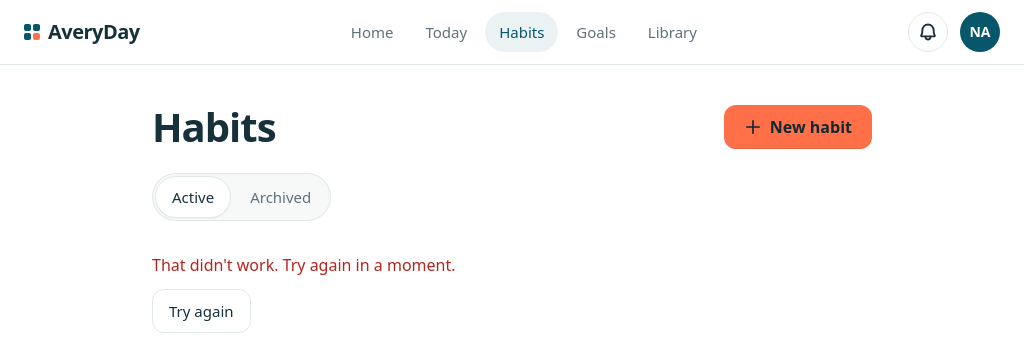
Scenario: habit list › says so, and offers a retry, when the list cannot load
Expected: the message "That didn't work. Try again in a moment." is shown, [152,254,456,276]
Click the button "Try again".
click(201, 311)  # box [152,289,250,333]
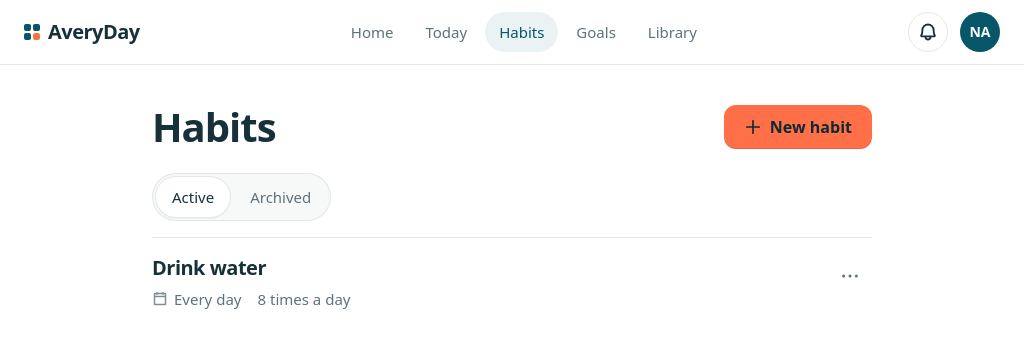
Expected: the heading "Drink water" is shown, [152,254,266,281]
